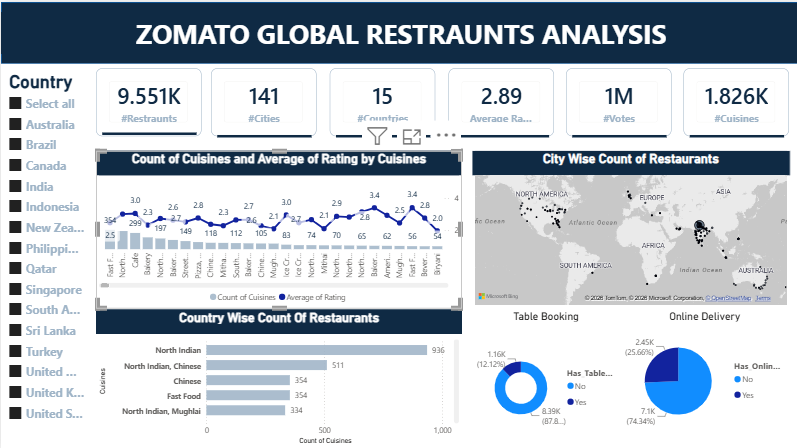

The dashboard page shown, as its layout file describes it:
{"tool":"powerbi","page":{"name":"Page 1","canvas":[1280,720],"ordinal":0},"visuals":[{"type":"shape","box":[0,0,1280.3,98.8],"z":0},{"type":"textbox","box":[0,15.1,1280.3,67.2],"z":1000},{"type":"cardVisual","fields":{"Data":["Count(Restraunts.RestaurantID)"]},"box":[152.3,105.7,168.8,108.4],"z":2000},{"type":"cardVisual","fields":{"Data":["Count(Restraunts.City)"]},"box":[336.2,105.7,168.8,108.4],"z":3000},{"type":"cardVisual","fields":{"Data":["Count(Restraunts.CountryCode)"]},"box":[526.9,105.7,168.8,108.4],"z":4000},{"type":"cardVisual","fields":{"Data":["Avg(Restraunts.Rating)"]},"box":[716.3,105.7,168.8,108.4],"z":5000},{"type":"cardVisual","fields":{"Data":["Sum(Restraunts.Votes)"]},"box":[904.3,105.7,168.8,108.4],"z":6000},{"type":"cardVisual","fields":{"Data":["Count(Restraunts.Cuisines)"]},"box":[1092.3,105.7,168.8,108.4],"z":7000},{"type":"slicer","fields":{"Values":["Countries.country name"]},"box":[0,105.7,138.6,606.5],"z":8000},{"type":"lineStackedColumnComboChart","fields":{"Category":["Restraunts.Cuisines"],"Y":["CountNonNull(Restraunts.Cuisines)"],"Y2":["Avg(Restraunts.Rating)"]},"box":[152.3,238.8,585.9,252.5],"z":9000},{"type":"map","title":"City Wise Count of Restaurants","fields":{"Category":["Restraunts.City"],"Size":["CountNonNull(Restraunts.RestaurantID)"]},"box":[753.3,238.8,507.7,252.5],"z":10000},{"type":"clusteredBarChart","title":"Country Wise Count Of Restaurants","fields":{"Category":["Restraunts.Cuisines"],"Y":["CountNonNull(Restraunts.Cuisines)"]},"box":[152.3,491.3,585.9,220.9],"z":11000},{"type":"pieChart","title":"Online Delivery","fields":{"Category":["Restraunts.Has_Online_delivery"],"Y":["CountNonNull(Restraunts.RestaurantID)"]},"box":[989.4,491.3,271.7,199],"z":12000},{"type":"donutChart","title":"Table Booking","fields":{"Category":["Restraunts.Has_Table_booking"],"Y":["CountNonNull(Restraunts.RestaurantID)"]},"box":[753,491,236,221],"z":13000},{"type":"shape","box":[161.9,160.5,150.9,101.5],"z":14000},{"type":"shape","box":[345.8,163.3,150.9,101.5],"z":15000},{"type":"shape","box":[535.2,163.3,150.9,101.5],"z":16000},{"type":"shape","box":[725.9,163.3,150.9,101.5],"z":17000},{"type":"shape","box":[913.9,163.3,150.9,101.5],"z":18000},{"type":"shape","box":[1101.9,163.3,150.9,101.5],"z":19000}]}

Visuals, with their boxes in screenshot pixels (x1, y1, x2, y2), scaled from the page's 1280x720 canvas onto the 797x448 screenshot:
shape: [x1=0, y1=0, x2=796, y2=61]
textbox: [x1=0, y1=9, x2=796, y2=51]
cardVisual - Count(Restraunts.RestaurantID): [x1=95, y1=66, x2=200, y2=133]
cardVisual - Count(Restraunts.City): [x1=209, y1=66, x2=314, y2=133]
cardVisual - Count(Restraunts.CountryCode): [x1=328, y1=66, x2=433, y2=133]
cardVisual - Avg(Restraunts.Rating): [x1=446, y1=66, x2=551, y2=133]
cardVisual - Sum(Restraunts.Votes): [x1=563, y1=66, x2=668, y2=133]
cardVisual - Count(Restraunts.Cuisines): [x1=680, y1=66, x2=785, y2=133]
slicer - Countries.country name: [x1=0, y1=66, x2=86, y2=443]
lineStackedColumnComboChart - Restraunts.Cuisines x CountNonNull(Restraunts.Cuisines): [x1=95, y1=149, x2=460, y2=306]
"City Wise Count of Restaurants" map: [x1=469, y1=149, x2=785, y2=306]
"Country Wise Count Of Restaurants" clusteredBarChart: [x1=95, y1=306, x2=460, y2=443]
"Online Delivery" pieChart: [x1=616, y1=306, x2=785, y2=430]
"Table Booking" donutChart: [x1=469, y1=306, x2=616, y2=443]
shape: [x1=101, y1=100, x2=195, y2=163]
shape: [x1=215, y1=102, x2=309, y2=165]
shape: [x1=333, y1=102, x2=427, y2=165]
shape: [x1=452, y1=102, x2=546, y2=165]
shape: [x1=569, y1=102, x2=663, y2=165]
shape: [x1=686, y1=102, x2=780, y2=165]
